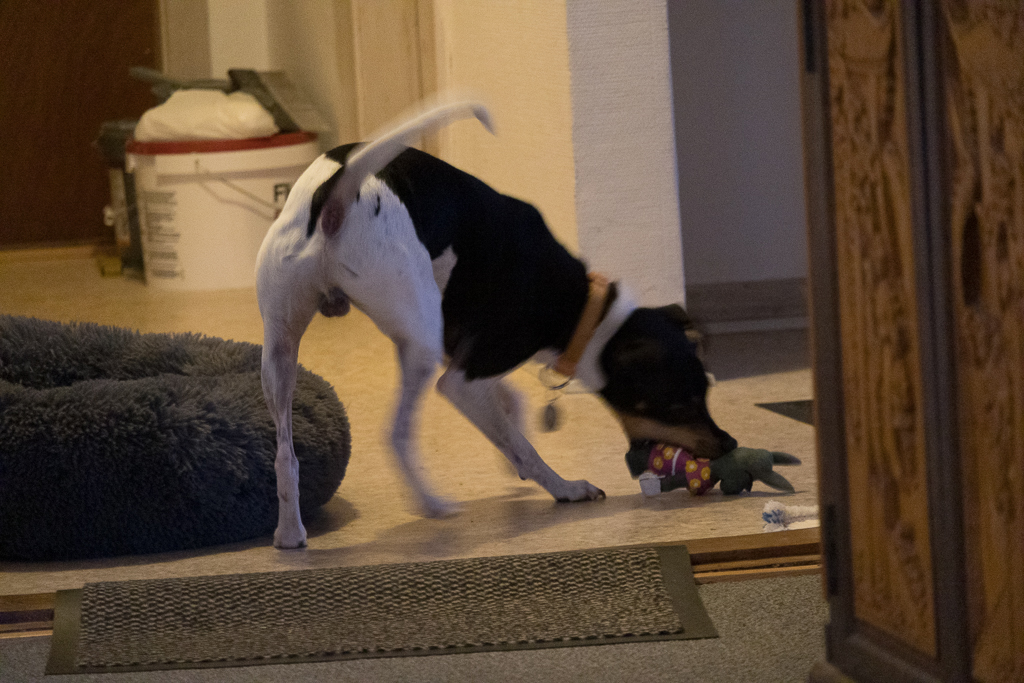Dog: (241, 77, 751, 562)
Humanoid: (616, 425, 811, 508)
